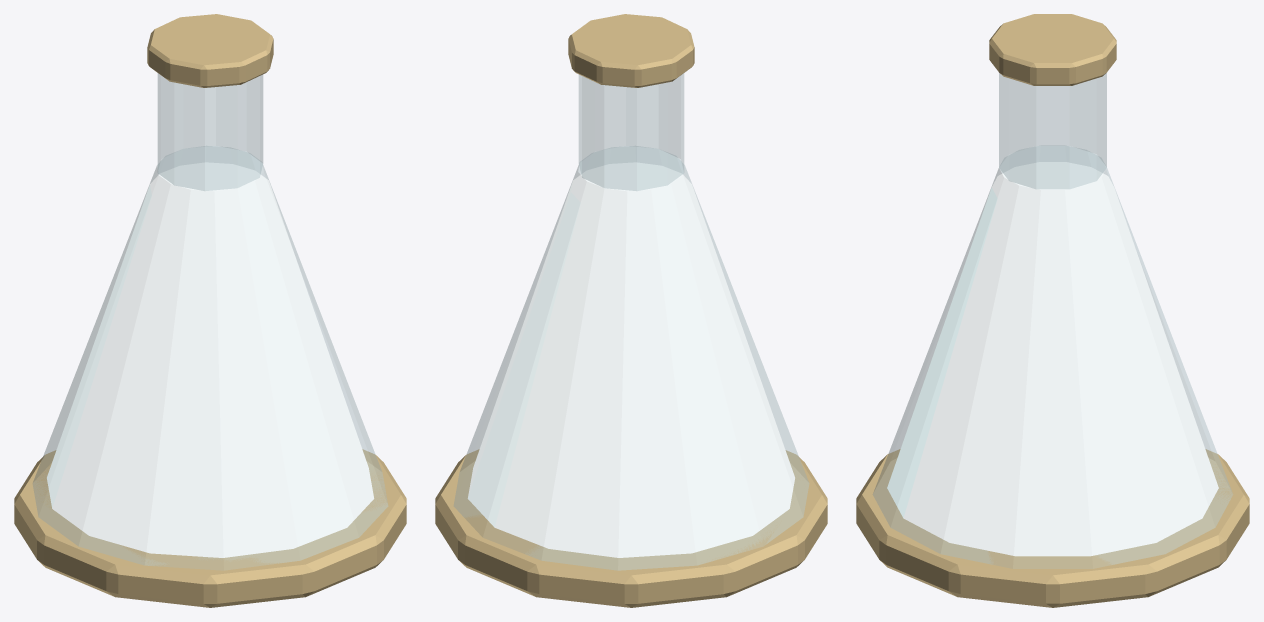
Rendered from Out_Flask.fbx.
3 views of the same model, side by side, from view 1: azimuth 30°, elevation 25°; view 2: azimuth 150°, elevation 25°; view 3: azimuth 270°, elevation 25° (orthographic).
Visible parts, largest first — view 1: Out_Flask, Liquid.006; view 2: Out_Flask, Liquid.006; view 3: Out_Flask, Liquid.006.
Part boxes in pixels (x1,y1,x2,y2): Out_Flask: (14,14,406,607); Liquid.006: (47,162,374,557); Out_Flask: (435,14,827,607); Liquid.006: (467,162,794,557); Out_Flask: (856,14,1249,607); Liquid.006: (887,162,1218,556).
Bounding box in the file's own units: 1.09 × 1.5 × 1.09.
